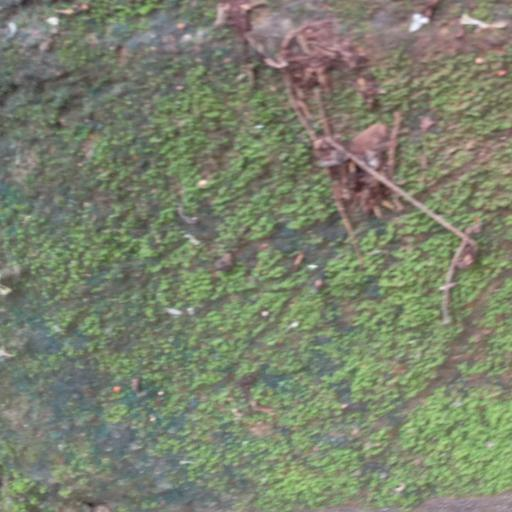algae: (14, 10, 512, 512)
